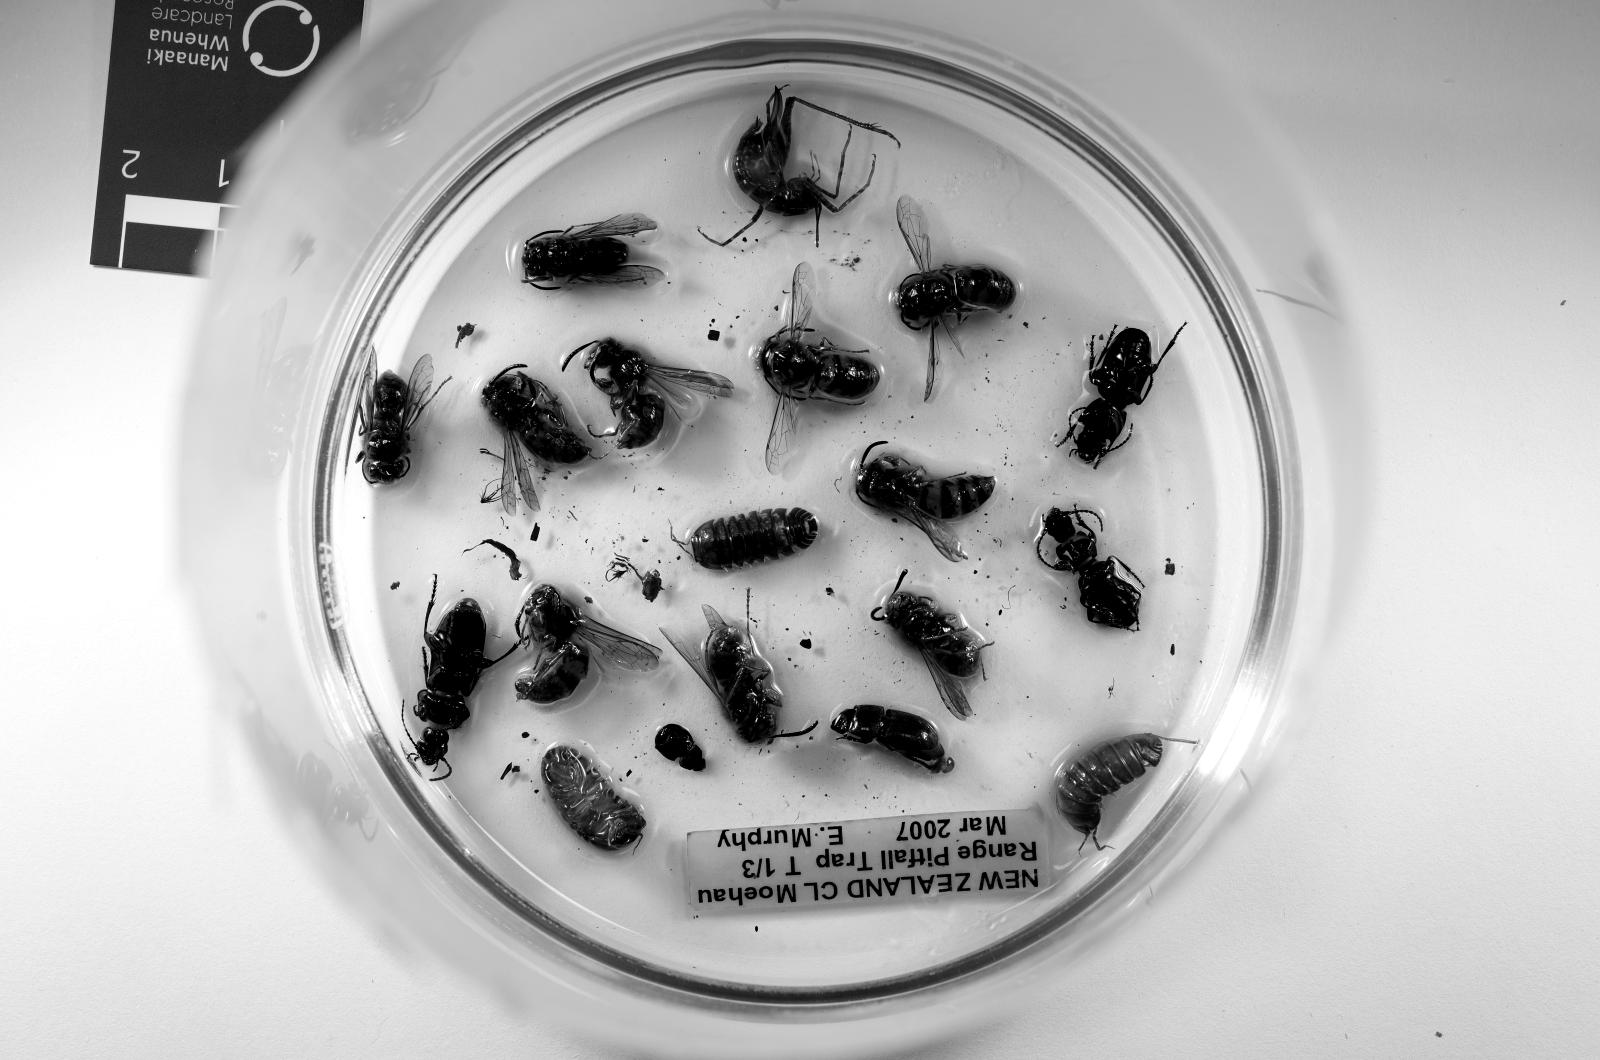carabidae: (1060, 327, 1162, 468), (413, 600, 500, 764), (1037, 509, 1141, 631)
coleoptera: (831, 705, 953, 774), (656, 724, 706, 770)
isopoda: (1056, 733, 1162, 845), (540, 745, 643, 851), (672, 509, 818, 571)
orthoptera: (706, 88, 900, 245)
vespidae: (757, 260, 881, 476), (894, 195, 1016, 403), (565, 338, 731, 451), (872, 571, 993, 720), (516, 584, 660, 705), (481, 363, 594, 516), (853, 441, 993, 562), (666, 606, 782, 742), (356, 348, 438, 485), (522, 214, 666, 289)
